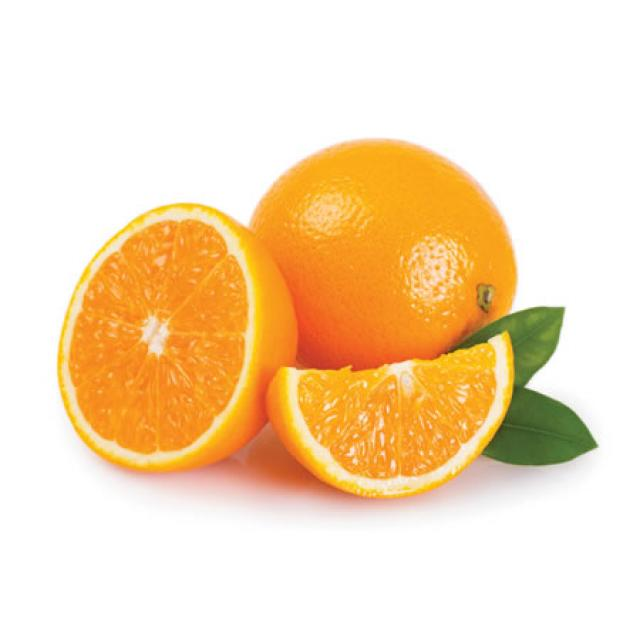orange: (248, 137, 522, 400), (52, 200, 304, 481), (263, 329, 523, 503)
